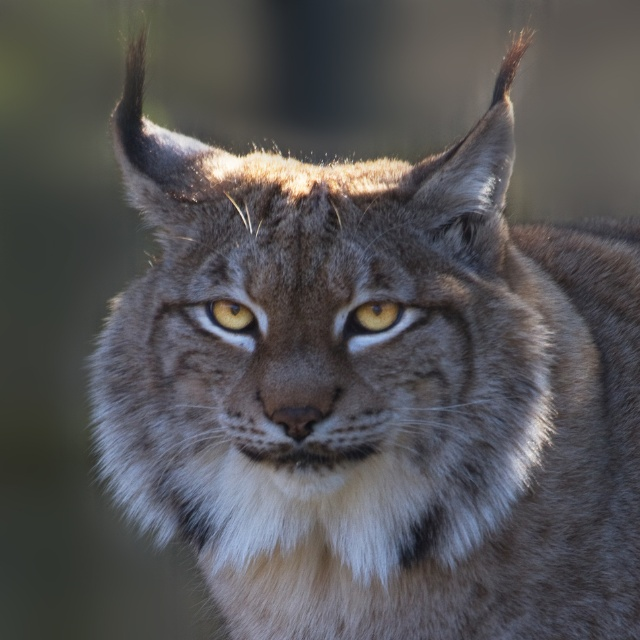Lynx: (79, 4, 640, 640)
